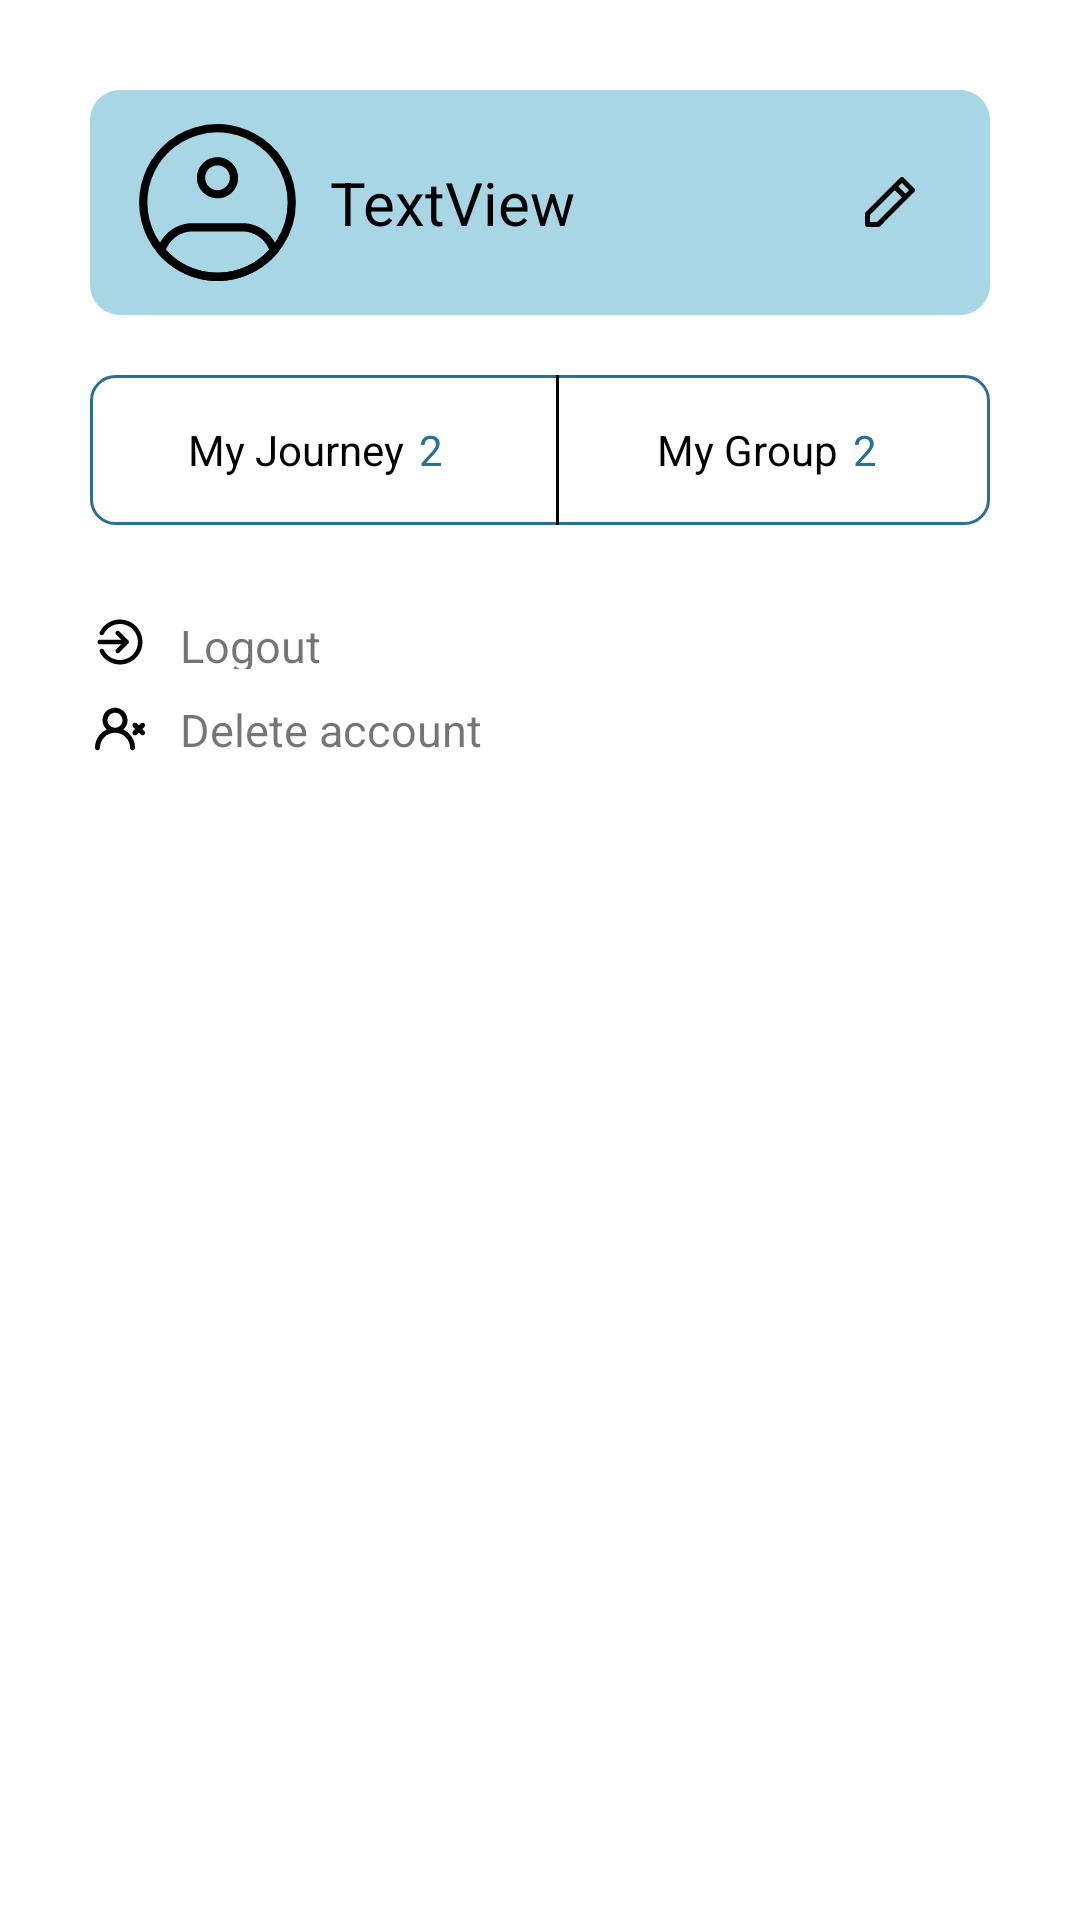

Named icons in this screenshot (1080*1920) and their centers, point (x, y):
account delete user: point (120, 729)
account edit: point (890, 202)
account profile: point (217, 202)
